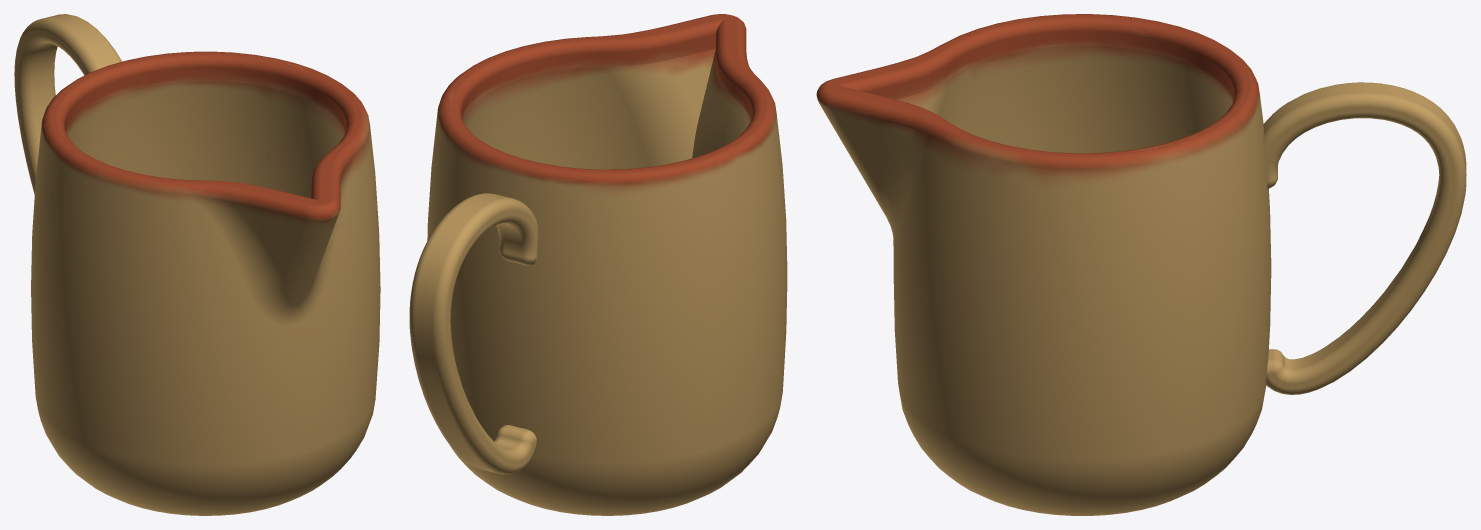
3 views of the same model, side by side, from view 1: azimuth 30°, elevation 25°; view 2: azimuth 150°, elevation 25°; view 3: azimuth 270°, elevation 25° (orthographic). The views are drawn at different scales.
Visible parts, largest first — view 1: Bryła2; view 2: Bryła2; view 3: Bryła2.
Part boxes in pixels (x1,y1,x2,y2): Bryła2: (14, 14, 380, 515); Bryła2: (409, 14, 787, 515); Bryła2: (816, 14, 1466, 515).
Bounding box in the file's own units: 0.0696 × 0.08 × 0.1197.
1 material, 1 textured.
